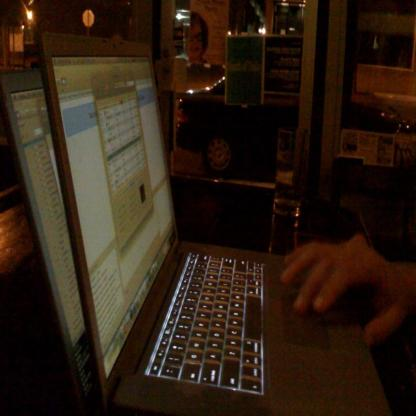board: (38, 34, 389, 414)
